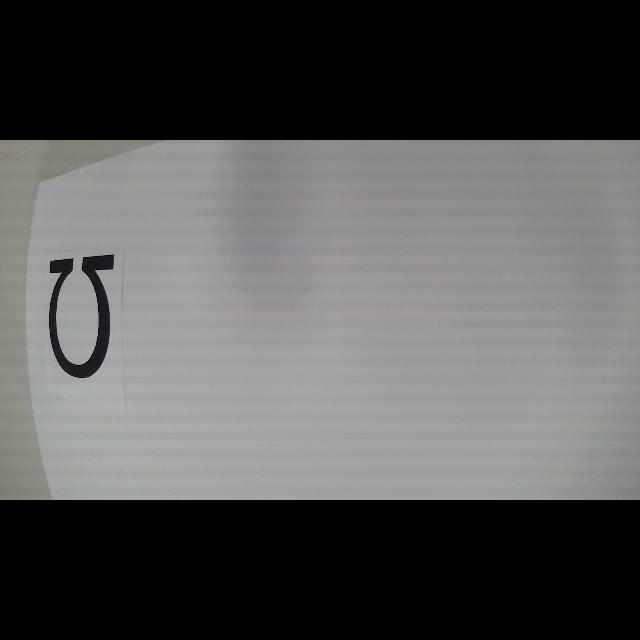OMEGA: (48, 254, 115, 378)
